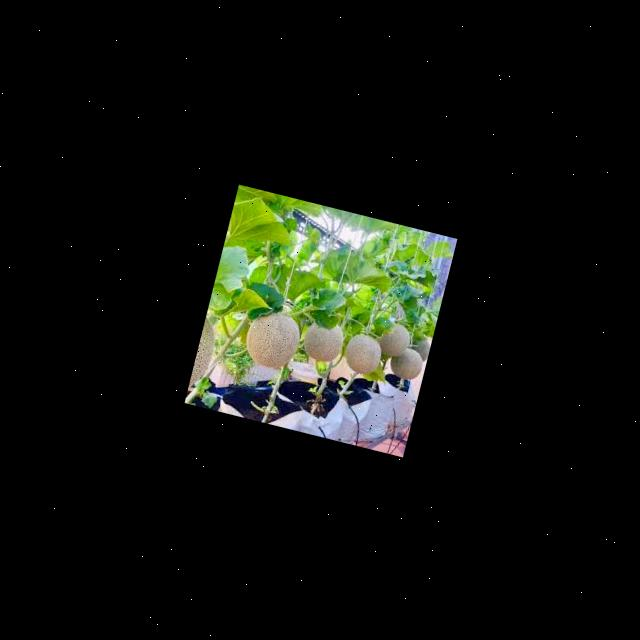Hami Melon: (241, 306, 305, 372), (300, 316, 346, 364), (339, 329, 384, 376), (387, 342, 427, 382), (376, 319, 413, 357)
